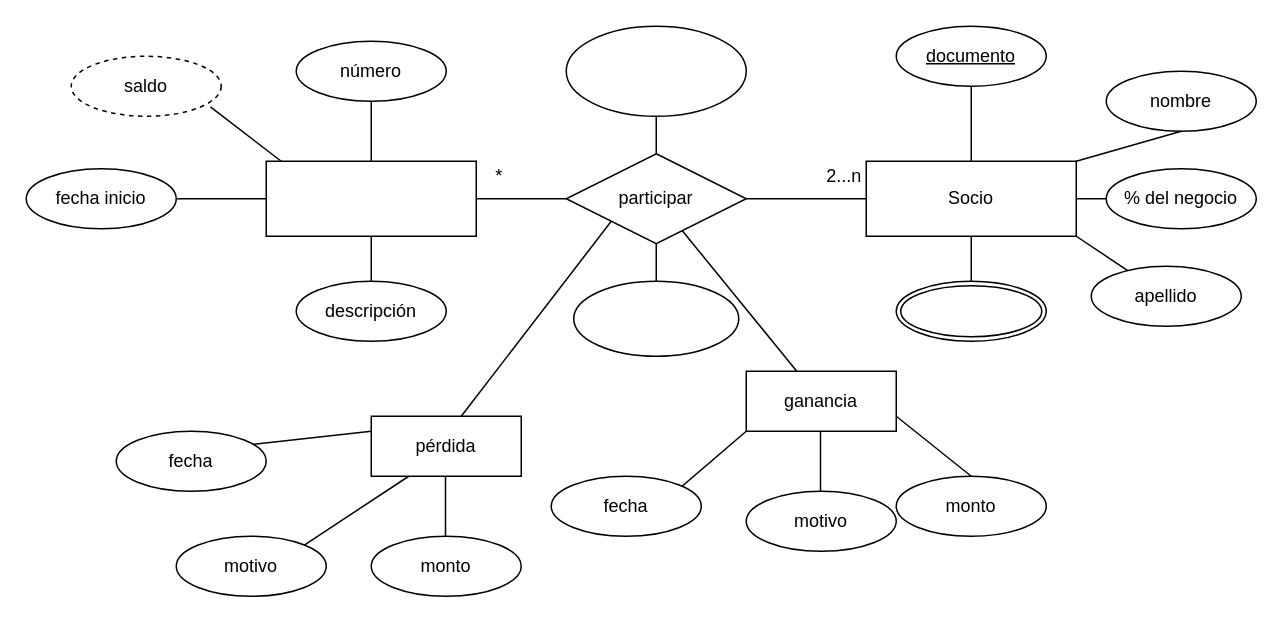
The diagram is 1283 pixels wide and 623 high, and some of its shapes have lost their labels. The shapes that lost their labels are listed below. From the top down, each one's centre as x and y in pixels, then its label:
point 655,70: todavía está activo para el negocio o no
point 370,198: Negocio
point 655,318: fecha en que un socio se unió a un negocio
point 970,310: teléfono
